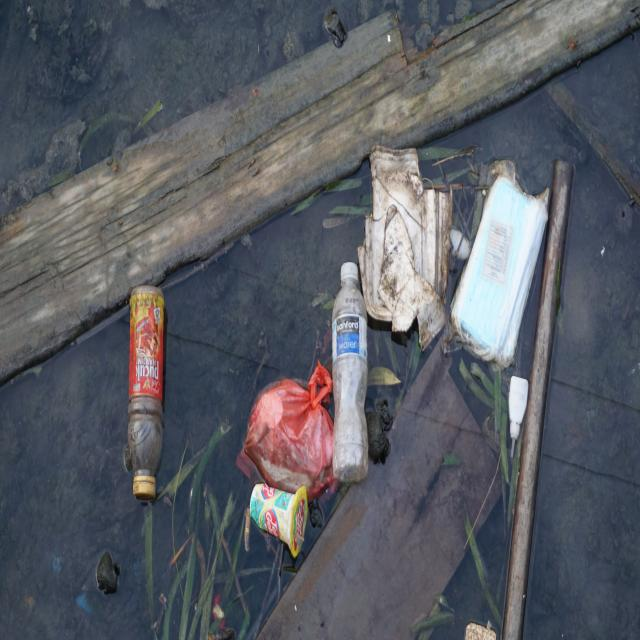Botol Plastik: (125, 283, 171, 505), (333, 254, 372, 487)
Bungkus Minuman: (247, 480, 314, 563)
Kantong Plastik: (240, 361, 343, 508)
